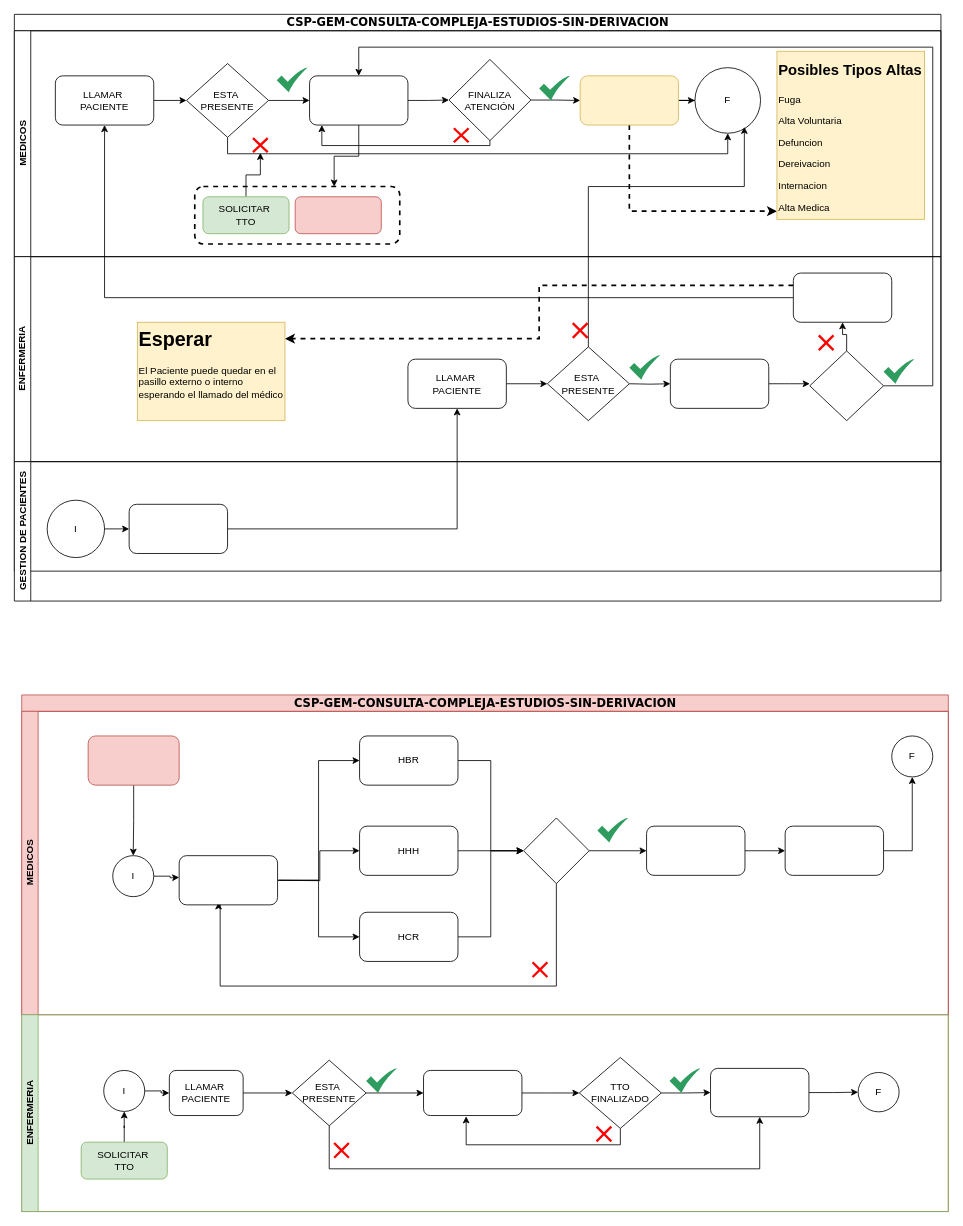
This 963x1226 diagram has some shape labels left out. The centre of each missing label's shape, as x and y in pixels:
ATENDER PACIENTE: (x=358, y=100)
AVISAR AL MEDICO: (x=759, y=1092)
CONSIGO ESTUDIO: (x=556, y=850)
ESPERAR ATENCION MEDICA: (x=842, y=297)
FINALIZAR ATENCIÓN: (x=629, y=100)
LLAMAR EFECTOR: (x=228, y=880)
NOTIFICO MEDICO: (x=834, y=850)
REALIZAR TRIAJE: (x=719, y=383)
REALIZAR TTO: (x=472, y=1093)
RECEPCIONAR PACIENTES: (x=178, y=528)
Shockroom/ Respiratorio: (x=846, y=385)
SOLICITAR ESTU DIOS: (x=337, y=215)
SOLICITAR ESTUDIOS: (x=133, y=760)
TRASLADO Y ESPERA DEL PACIENTE: (x=695, y=850)
